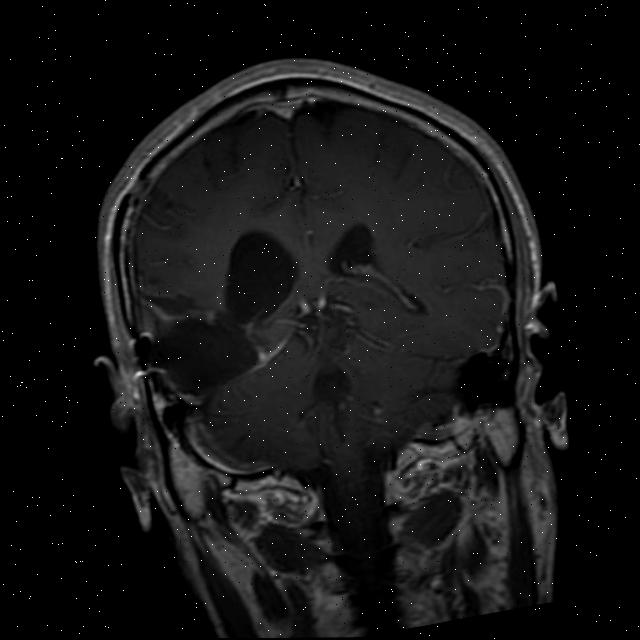Glioma: (142, 298, 262, 402)
